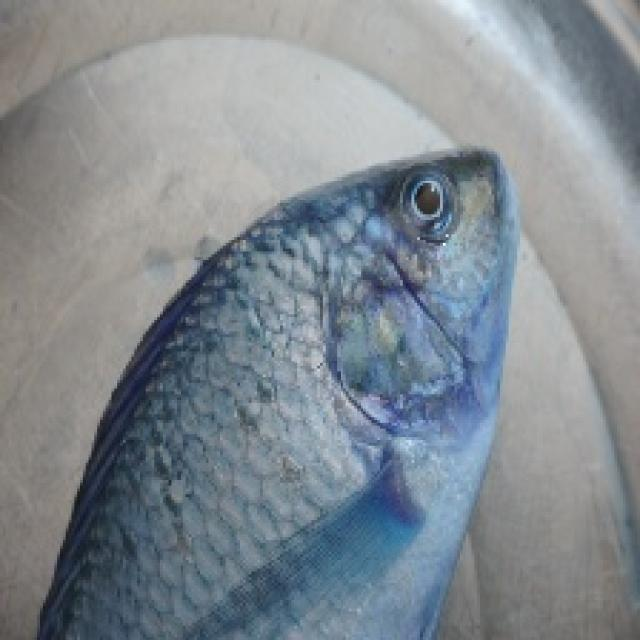Fresh: (46, 56, 549, 640)
